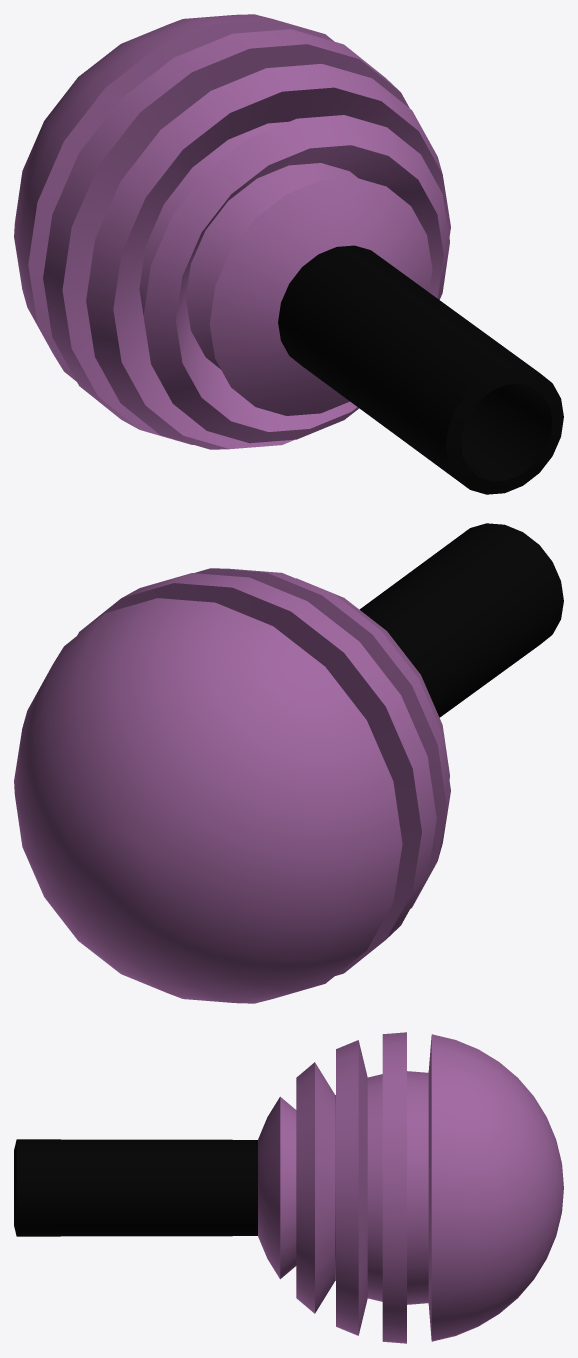
The model's file is Gun.fbx.
3 renders of one model, top to bottom at view 1: azimuth 30°, elevation 25°; view 2: azimuth 150°, elevation 25°; view 3: azimuth 270°, elevation 25°, orthographic. The views are drawn at different scales.
Parts seen in each view (by area): view 1: pSphere96; view 2: pSphere96; view 3: pSphere96.
Boxes of the visible parts, x1=… form: pSphere96: x1=14, y1=14, x2=563, y2=494; pSphere96: x1=14, y1=523, x2=563, y2=1003; pSphere96: x1=14, y1=1032, x2=563, y2=1343.
Size of the model in its own units: 2 by 2 by 3.51.
